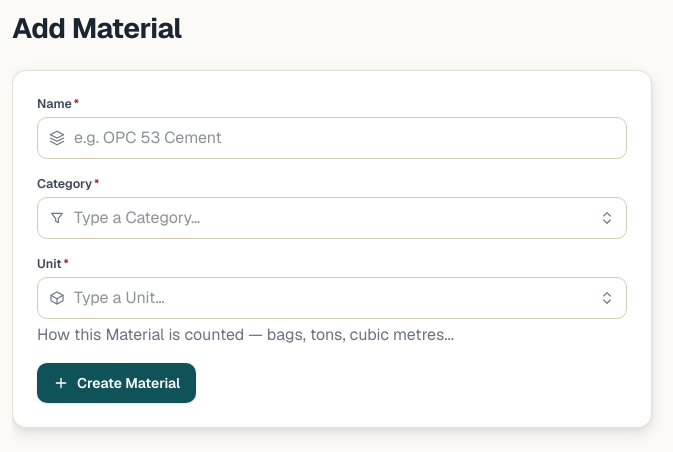
NewMaterialPage › hides a disabled Category from the picker, but still shows active ones (AC #3)
Click the button named "Open Category options" at (607, 218), box [591,202,623,234]
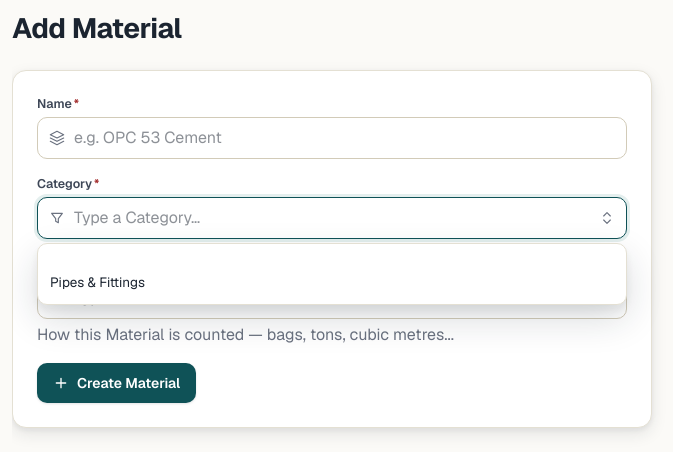
Expected: the option "Pipes & Fittings" is shown, [50,273,145,291]
